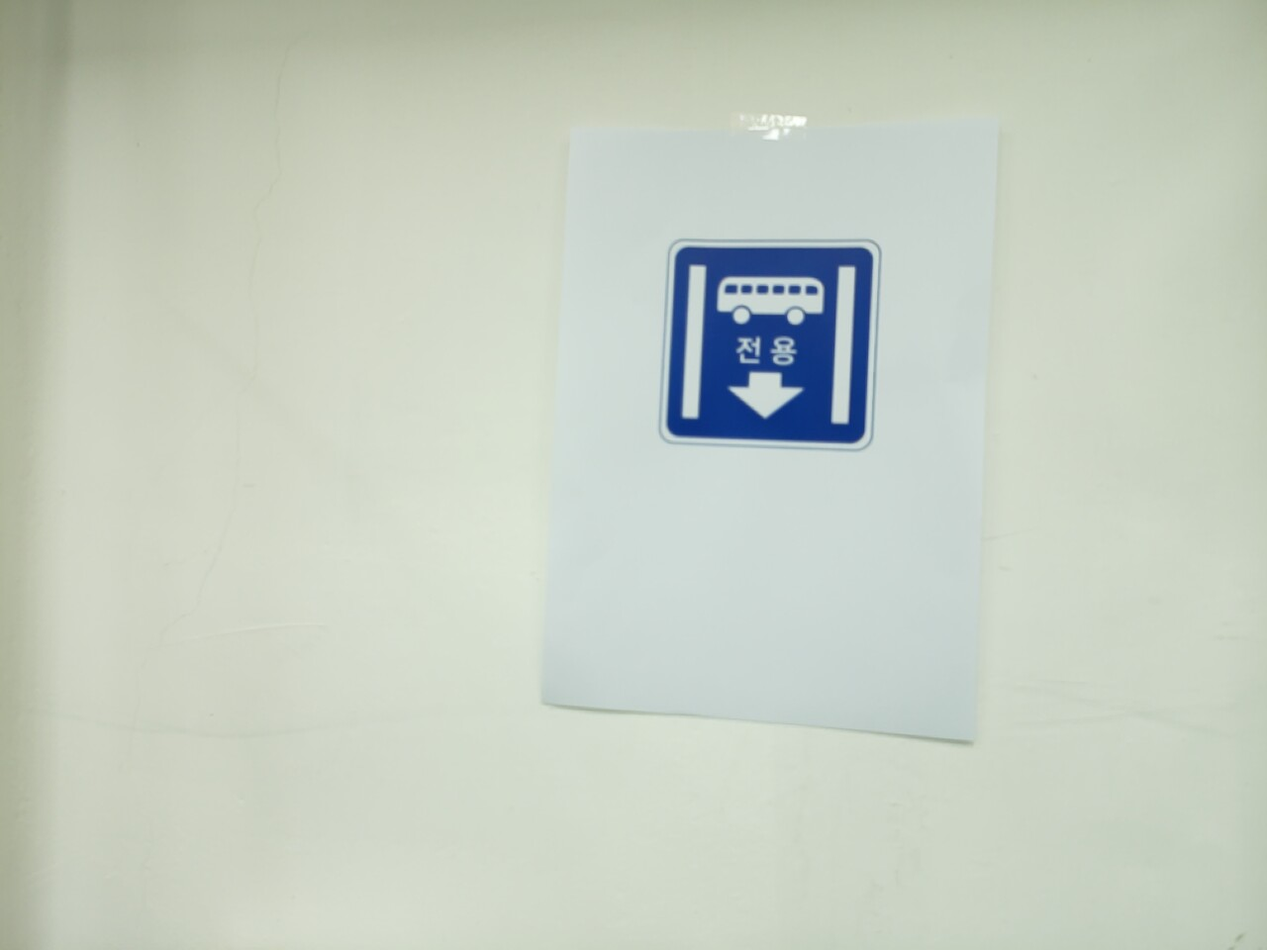bus_only_lane: (658, 238, 881, 452)
